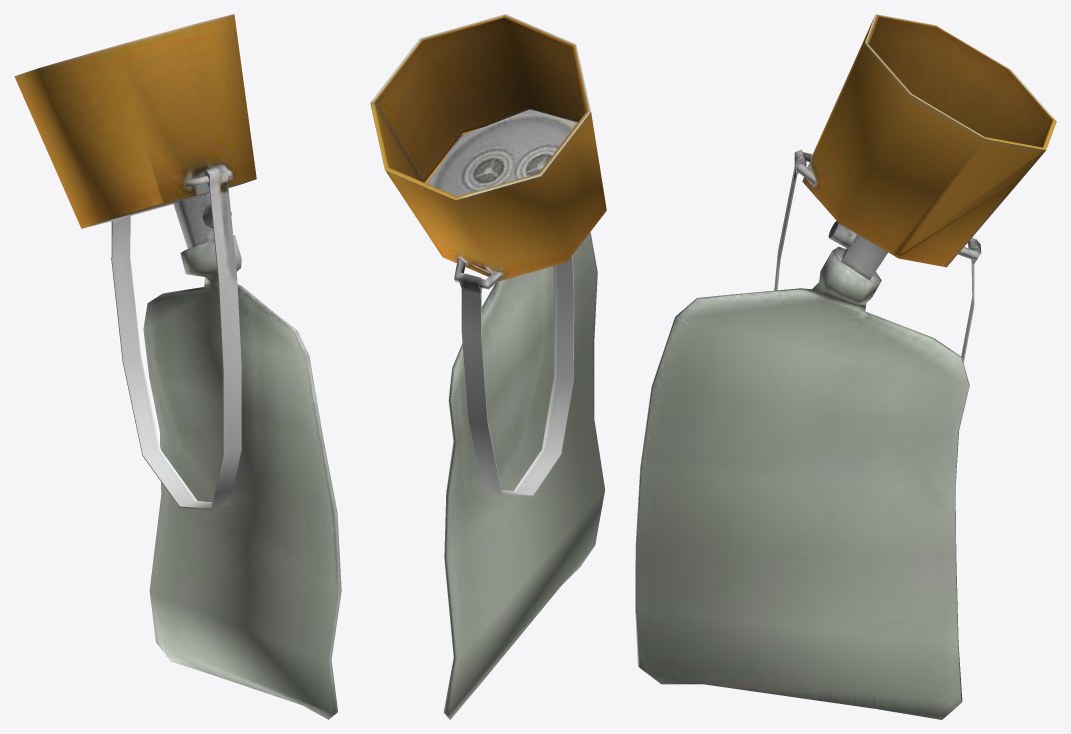
Rendered from oxygen_mask.fbx.
3 renders of one model, left to right at view 1: azimuth 30°, elevation 25°; view 2: azimuth 150°, elevation 25°; view 3: azimuth 270°, elevation 25°, orthographic.
Visible parts, largest first — view 1: S_Pln747B_Oxygen_mask_001; view 2: S_Pln747B_Oxygen_mask_001; view 3: S_Pln747B_Oxygen_mask_001.
Boxes of the visible parts, <box> form: S_Pln747B_Oxygen_mask_001: <box>14,14,341,719</box>; S_Pln747B_Oxygen_mask_001: <box>370,14,606,719</box>; S_Pln747B_Oxygen_mask_001: <box>635,14,1056,719</box>.
Bounding box in the file's own units: 4.19 × 13.93 × 7.96.
